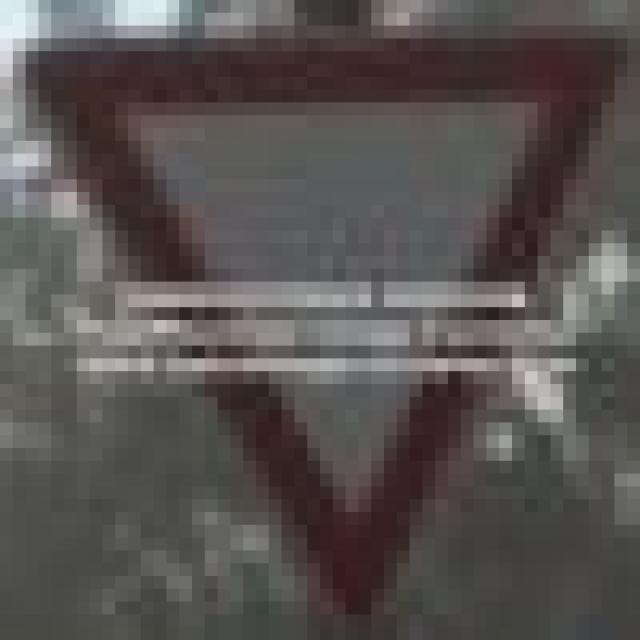GIVE_WAY: (13, 38, 627, 614)
